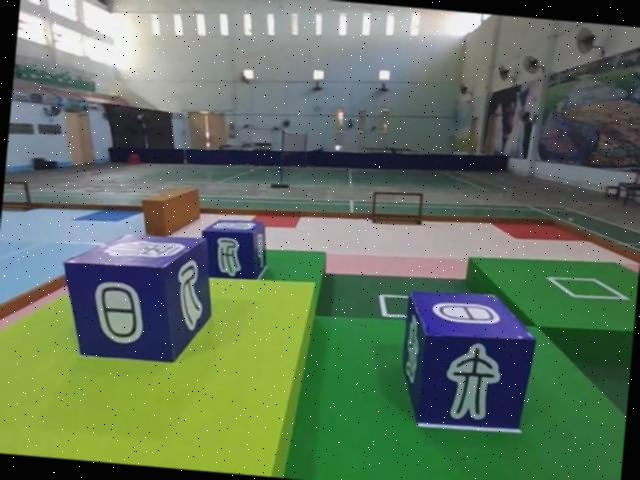R2 Fake Blue: (56, 227, 218, 369), (392, 288, 536, 439), (196, 217, 269, 285)
